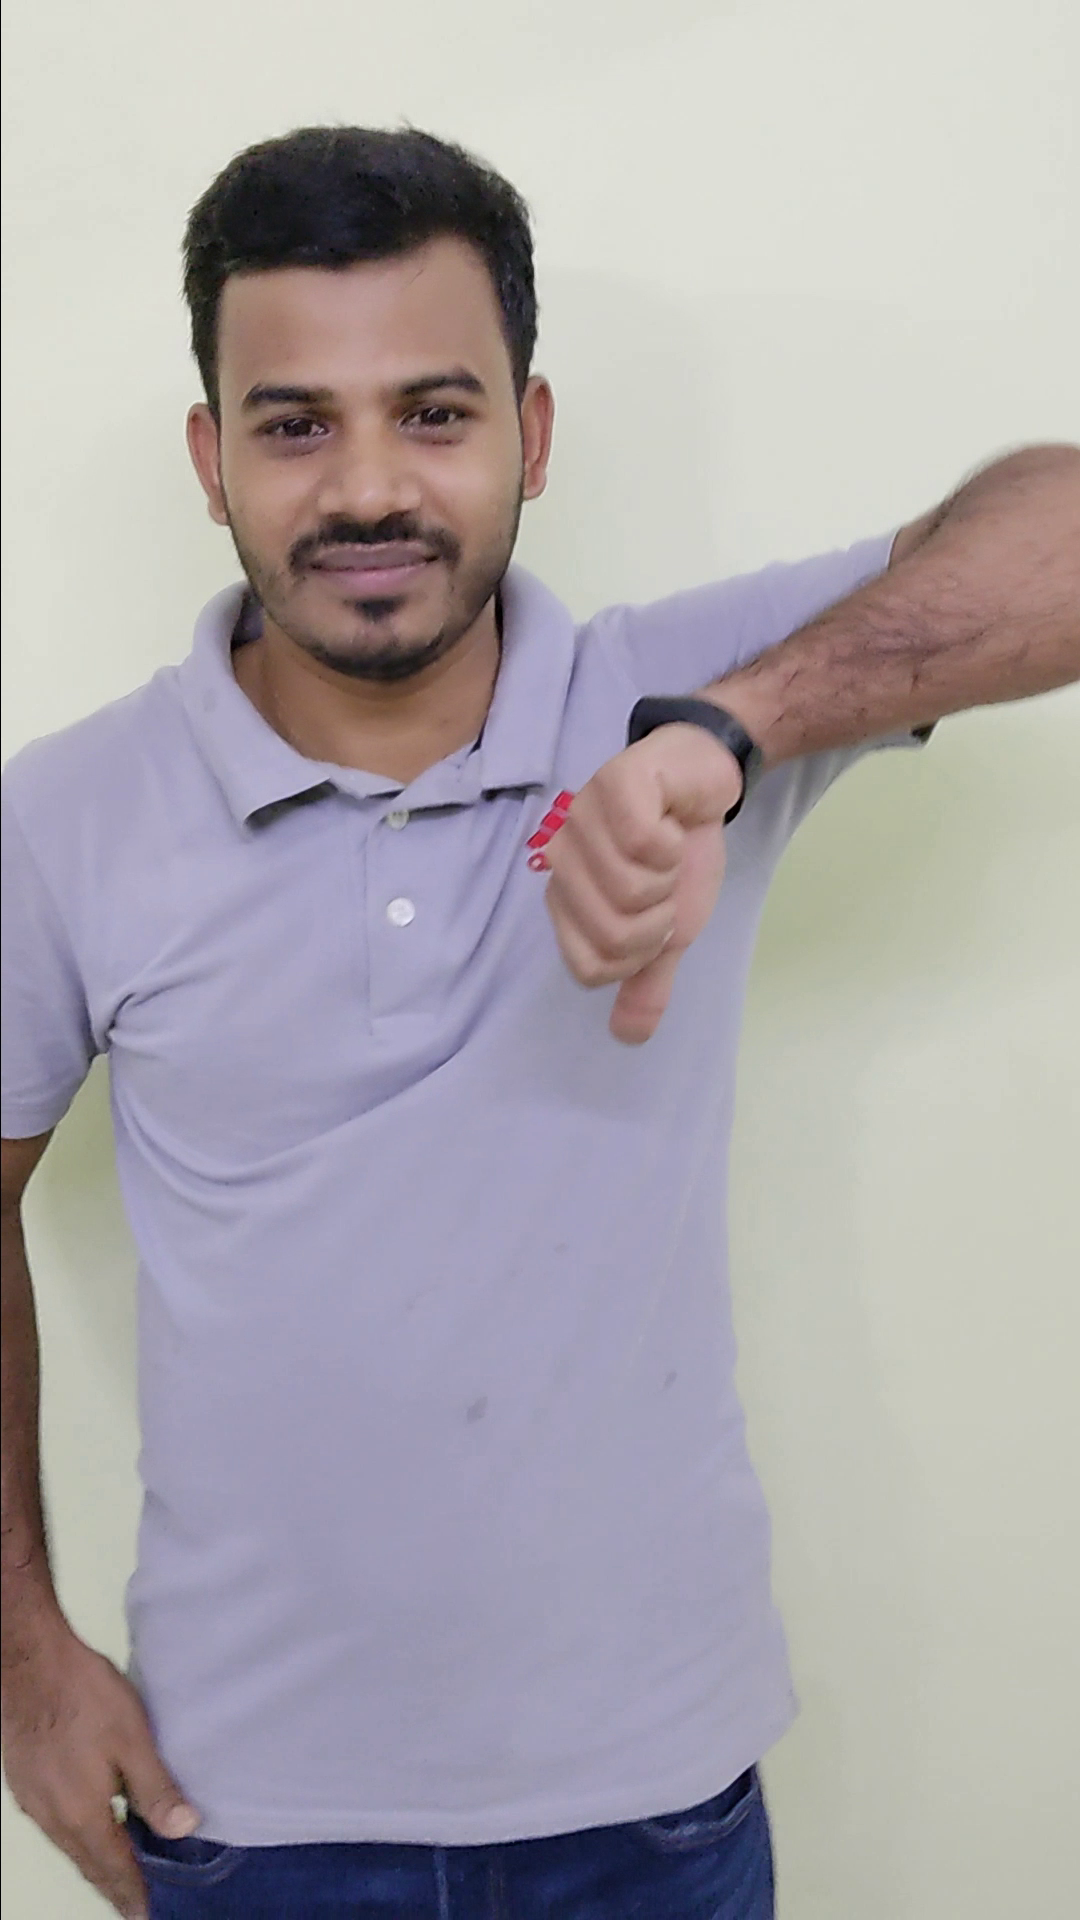Dislike: (522, 688, 750, 1063)
None: (3, 1619, 211, 1920)
